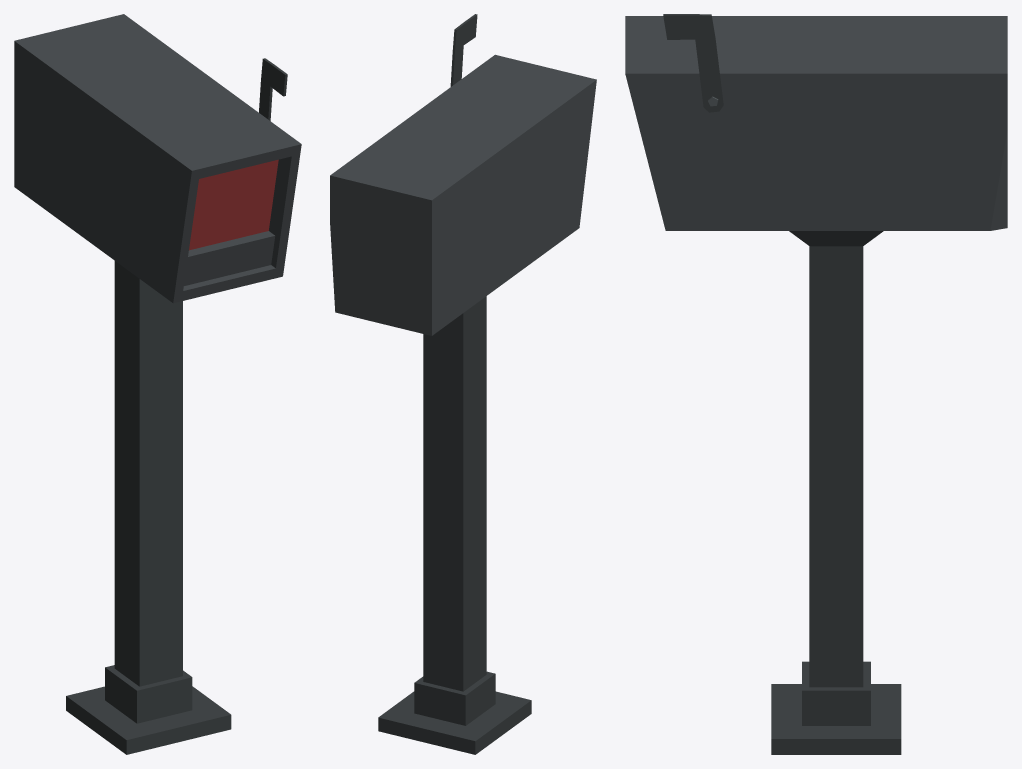
Rendered from SM_Props_Farm_PostBox_04.fbx.
3 views of the same model, side by side, from view 1: azimuth 30°, elevation 25°; view 2: azimuth 150°, elevation 25°; view 3: azimuth 270°, elevation 25° (orthographic). The views are drawn at different scales.
Visible parts, largest first — view 1: SM_Props_Farm_PostBox_04; view 2: SM_Props_Farm_PostBox_04; view 3: SM_Props_Farm_PostBox_04.
Part boxes in pixels (box(x1,y1,x2,y2)): SM_Props_Farm_PostBox_04: box(14, 14, 301, 754); SM_Props_Farm_PostBox_04: box(330, 14, 596, 754); SM_Props_Farm_PostBox_04: box(625, 14, 1007, 754).
Size of the model in its own units: 19.63 by 112 by 52.5.
